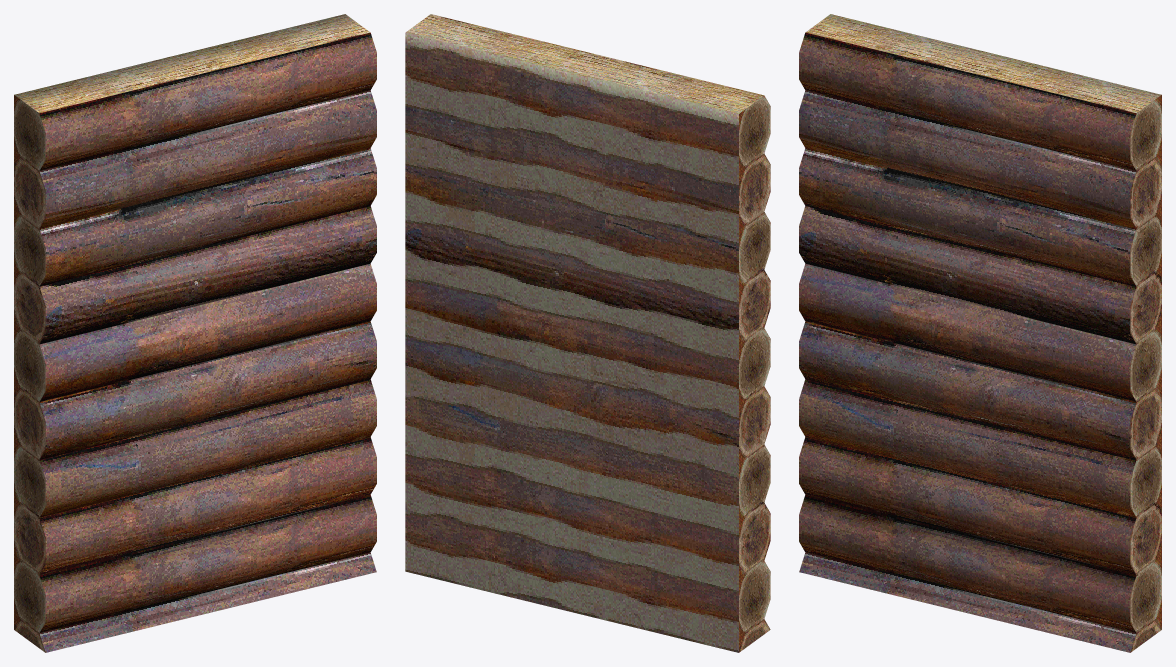
Rendered from wall-B.glb.
3 views of the same model, side by side, from view 1: azimuth 30°, elevation 25°; view 2: azimuth 150°, elevation 25°; view 3: azimuth 330°, elevation 25° (orthographic).
Visible parts, largest first — view 1: wall-B.001; view 2: wall-B.001; view 3: wall-B.001.
Part boxes in pixels (box(x1,y1,x2,y2)): wall-B.001: box(14, 14, 376, 652); wall-B.001: box(405, 14, 770, 652); wall-B.001: box(799, 14, 1161, 652).
Bounding box in the file's own units: 2 × 3.09 × 0.3293.
1 material, 1 textured.
